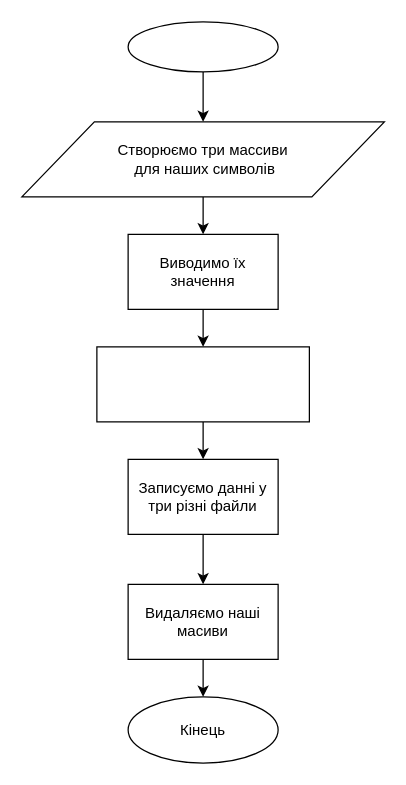
Image size: 406x785. Some labels were removed from this diagram. Each missing label, with the centre of its shape:
НАЧАЛО: pixel 202 46
Проводимо три різні сортування: бульбашкою, вибором та вставкою: pixel 202 384
